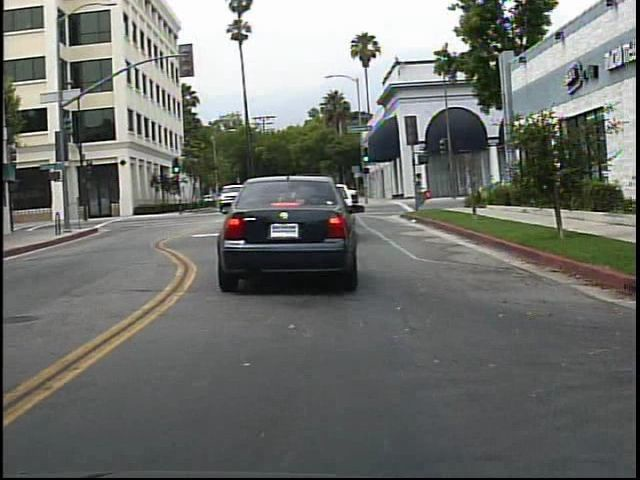person: (415, 171, 424, 216)
